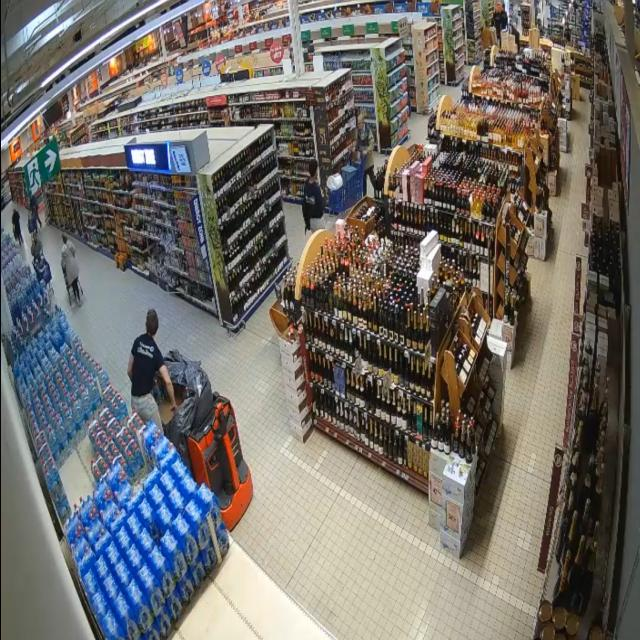bags: (302, 199, 310, 238)
hands: (171, 404, 178, 412), (352, 147, 358, 152), (363, 150, 367, 155)
person: (128, 309, 176, 427), (303, 159, 325, 231), (357, 113, 375, 195), (61, 235, 81, 305)
